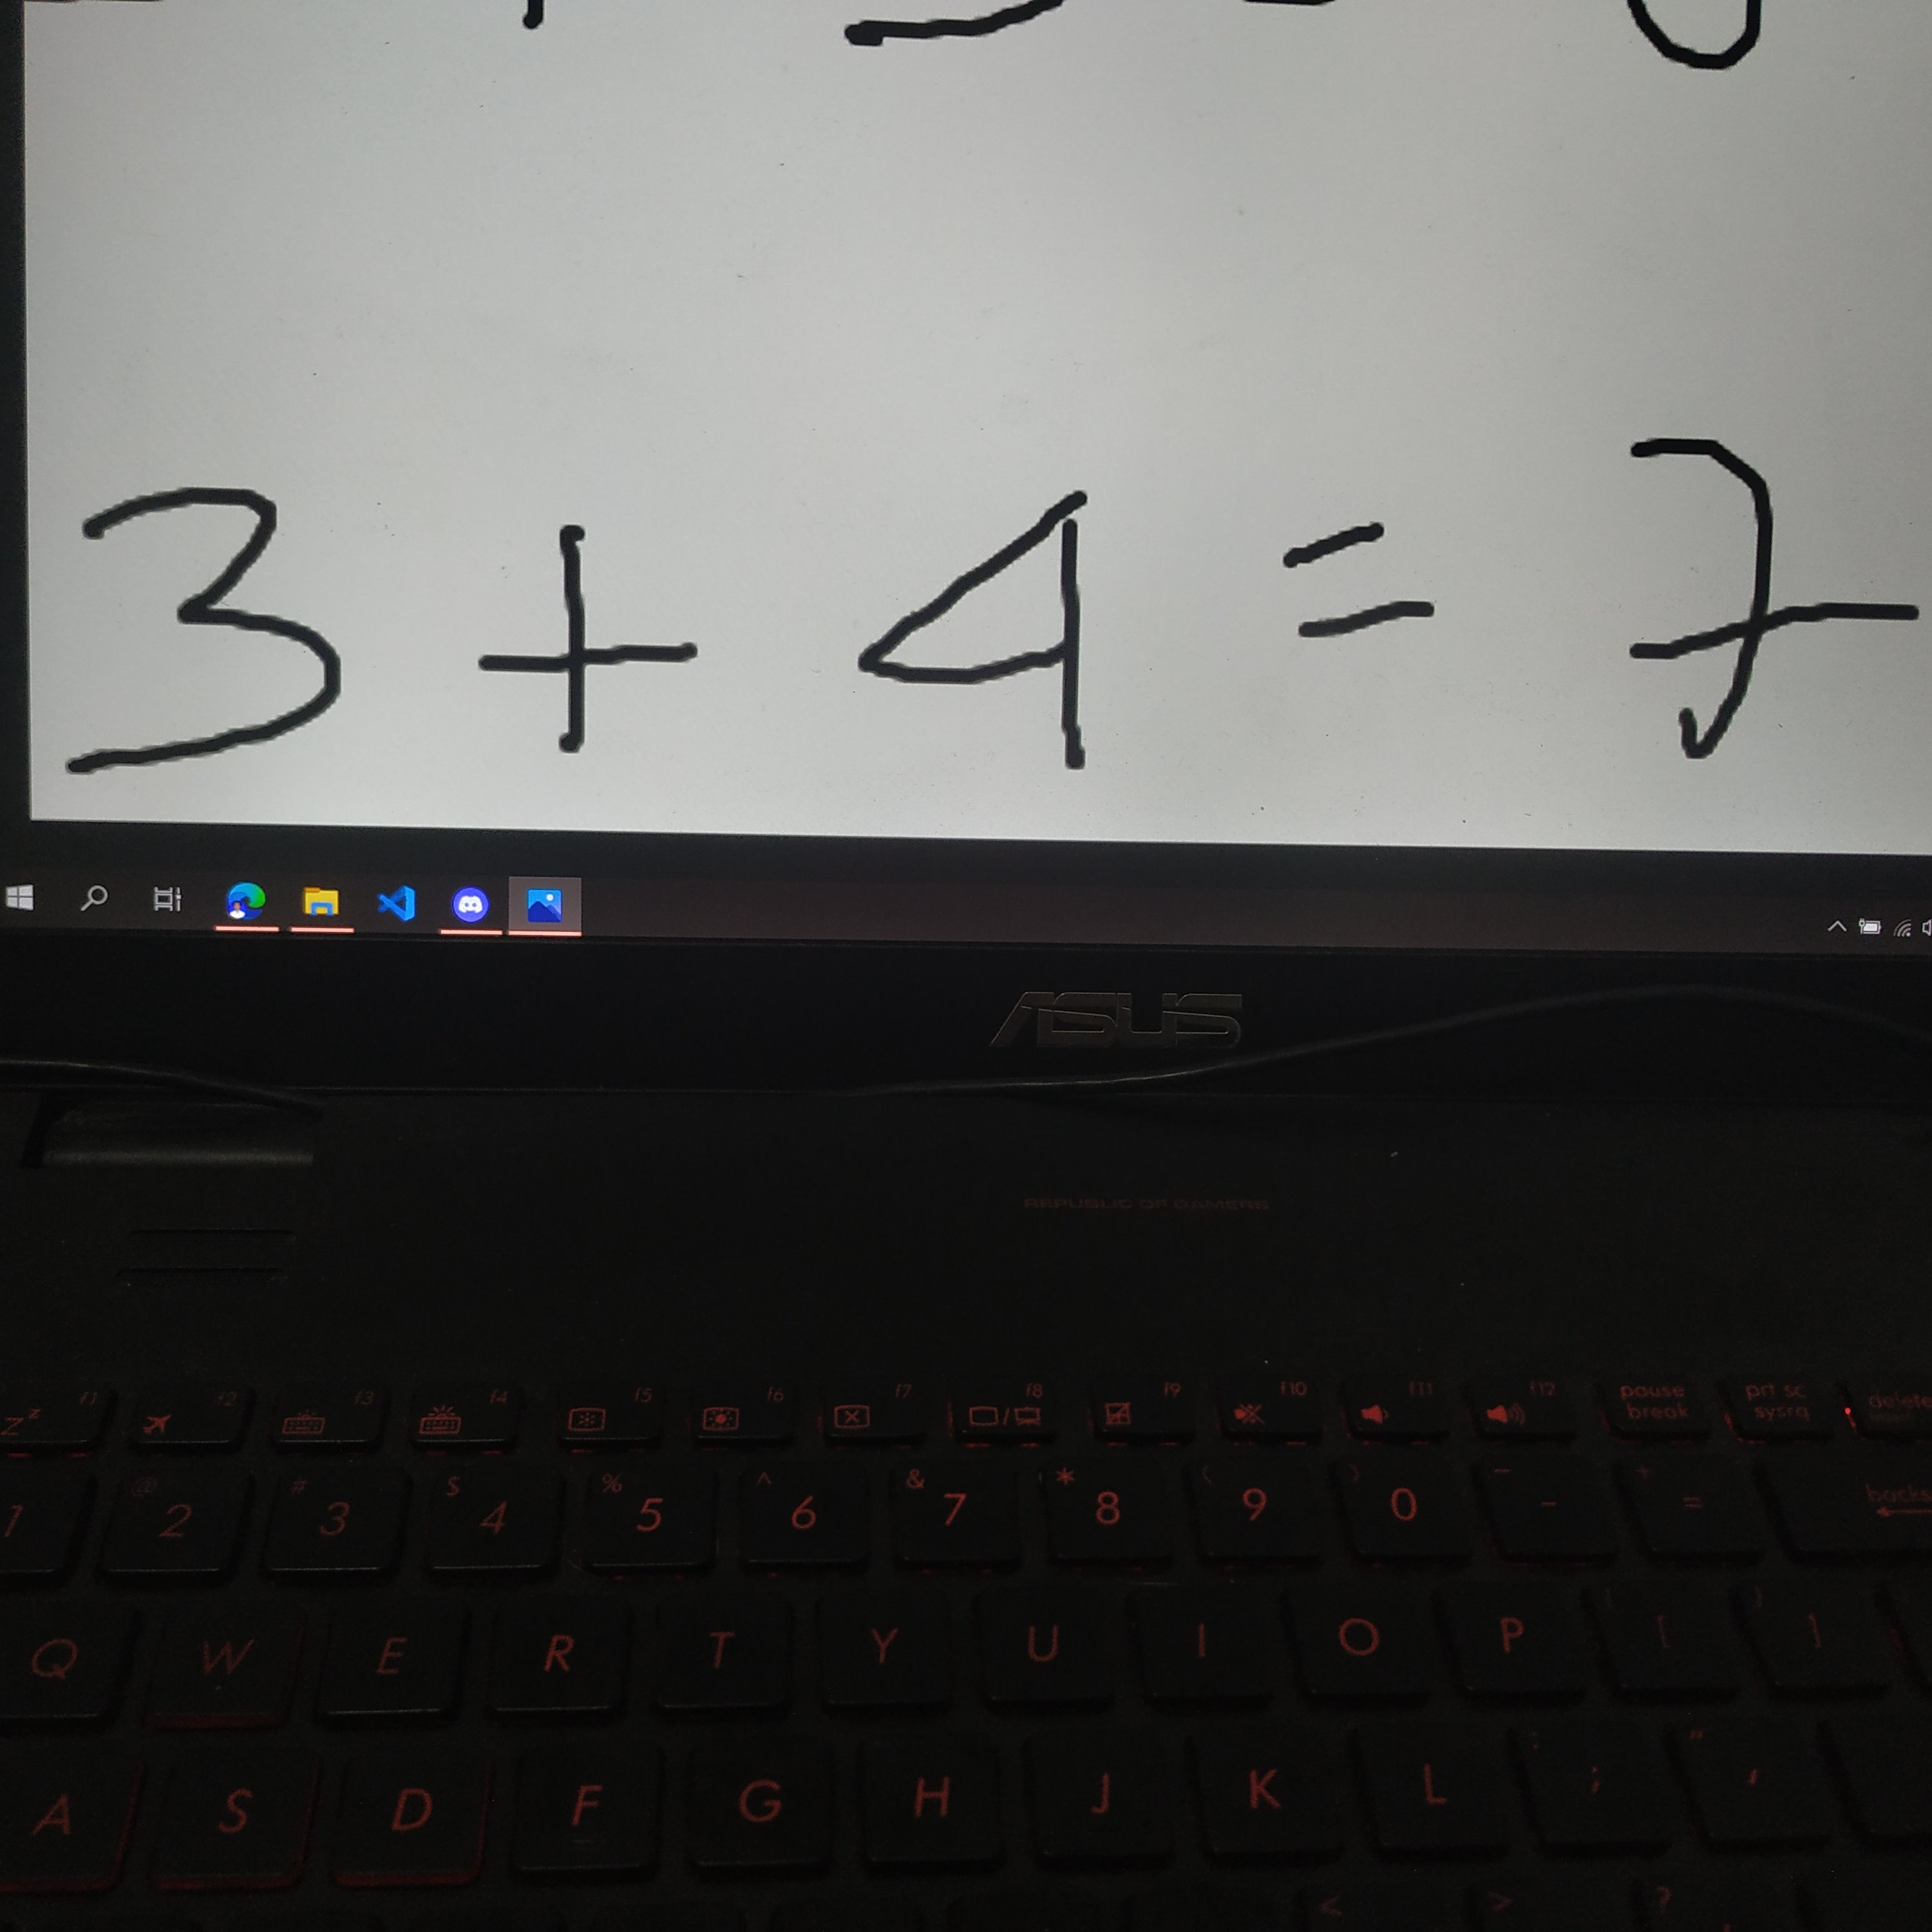equal: (1260, 498, 1472, 660)
num3: (42, 461, 395, 797)
num4: (821, 475, 1150, 787)
num7: (1567, 409, 1932, 796)
sum: (460, 502, 736, 779)
